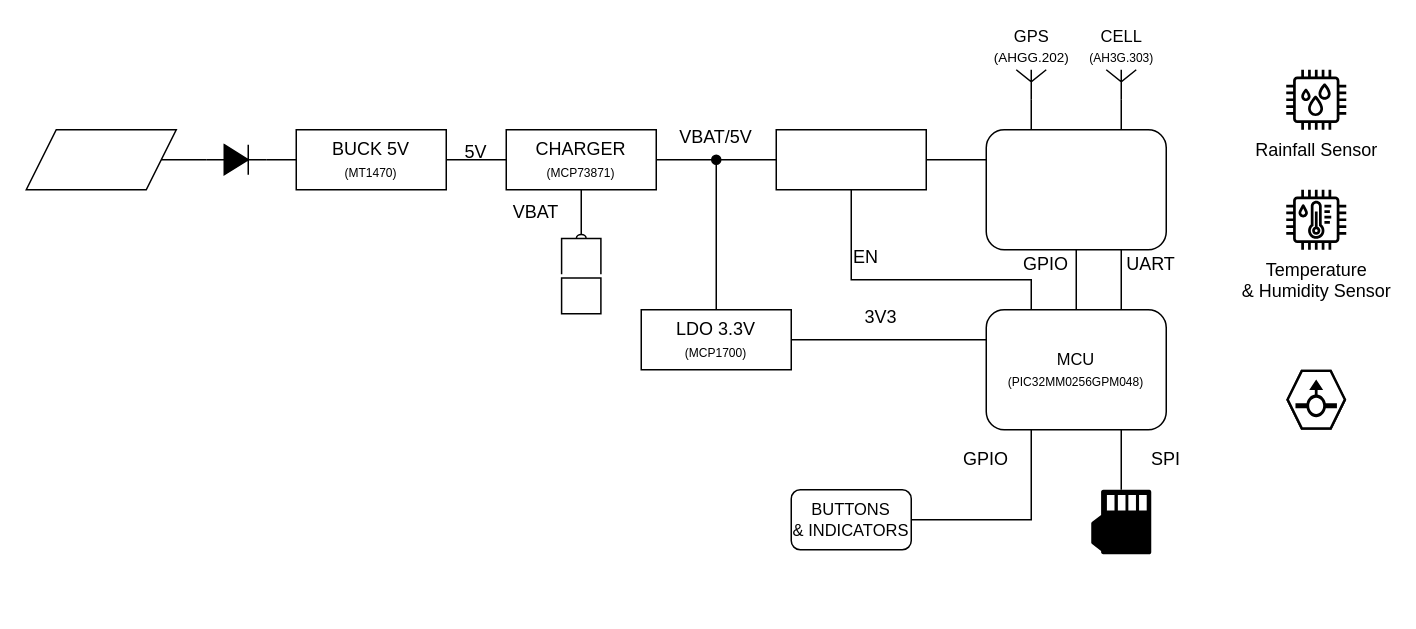
Some shapes in this 1416 by 629 pixel diagram are drawn without their labels. The centre of each missing label's shape, as x and y in pixels:
BUCK 3.8V (MT1470): the point at 850,159
Flash Memory (W25Q64FVSSIG): the point at 1120,521
Li-Ion 3.7V 2x 3.4Ah (NCR18650B): the point at 580,273
NB MODULE (ME310G1): the point at 1075,189
Solar (6V/2W): the point at 100,159
